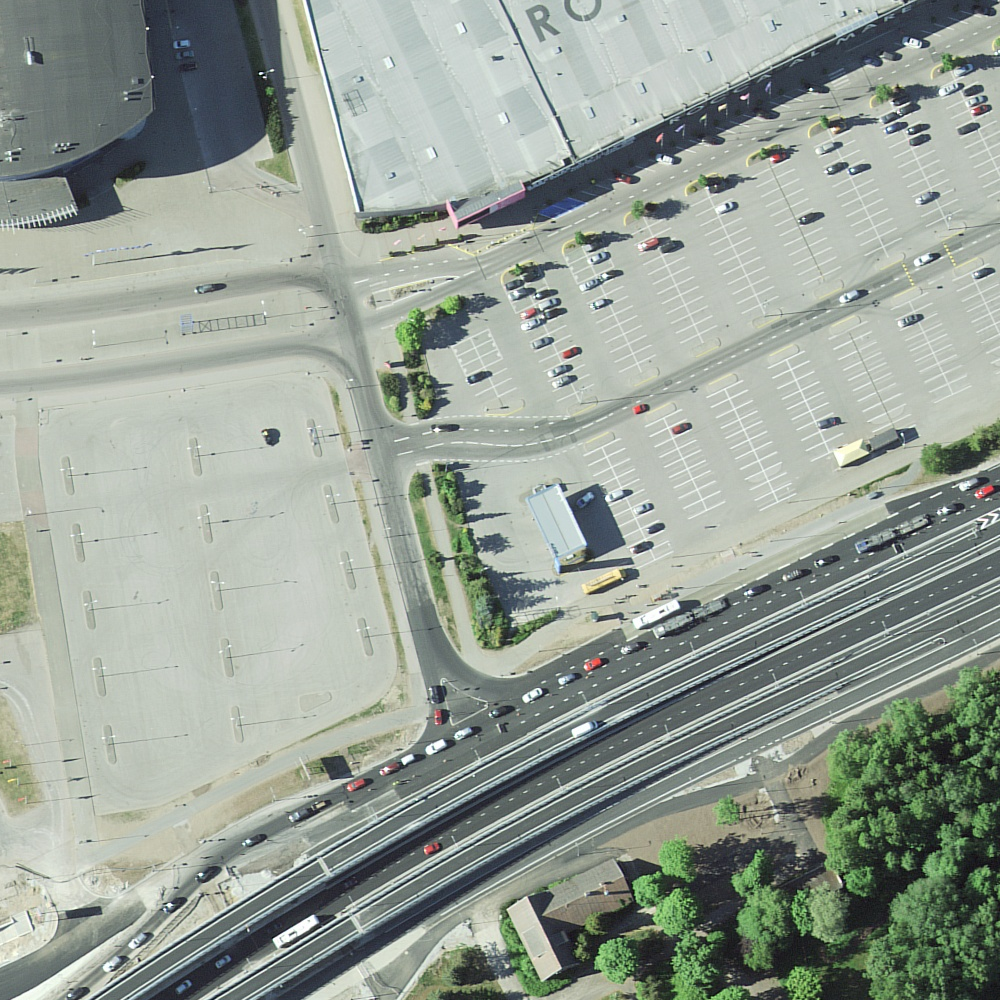building: (305, 1, 919, 222), (3, 2, 155, 225), (507, 856, 634, 982), (527, 484, 589, 558)
